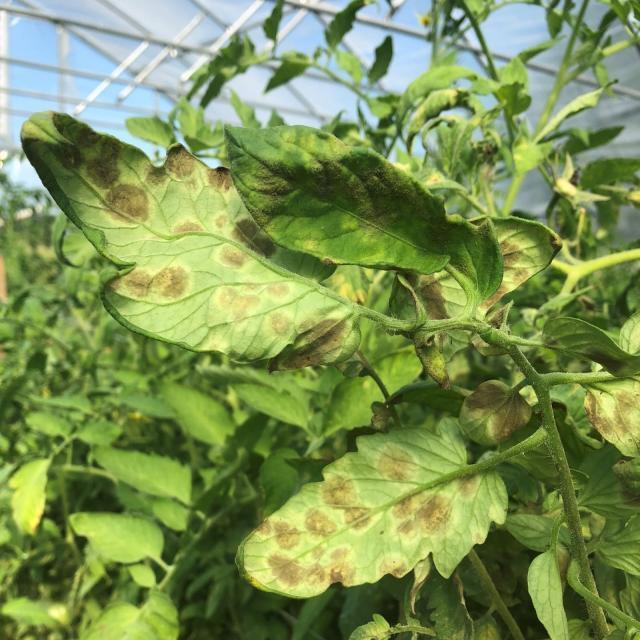Mosaic Virus: (18, 116, 356, 368), (253, 442, 462, 590), (452, 376, 536, 460), (577, 384, 640, 446)
